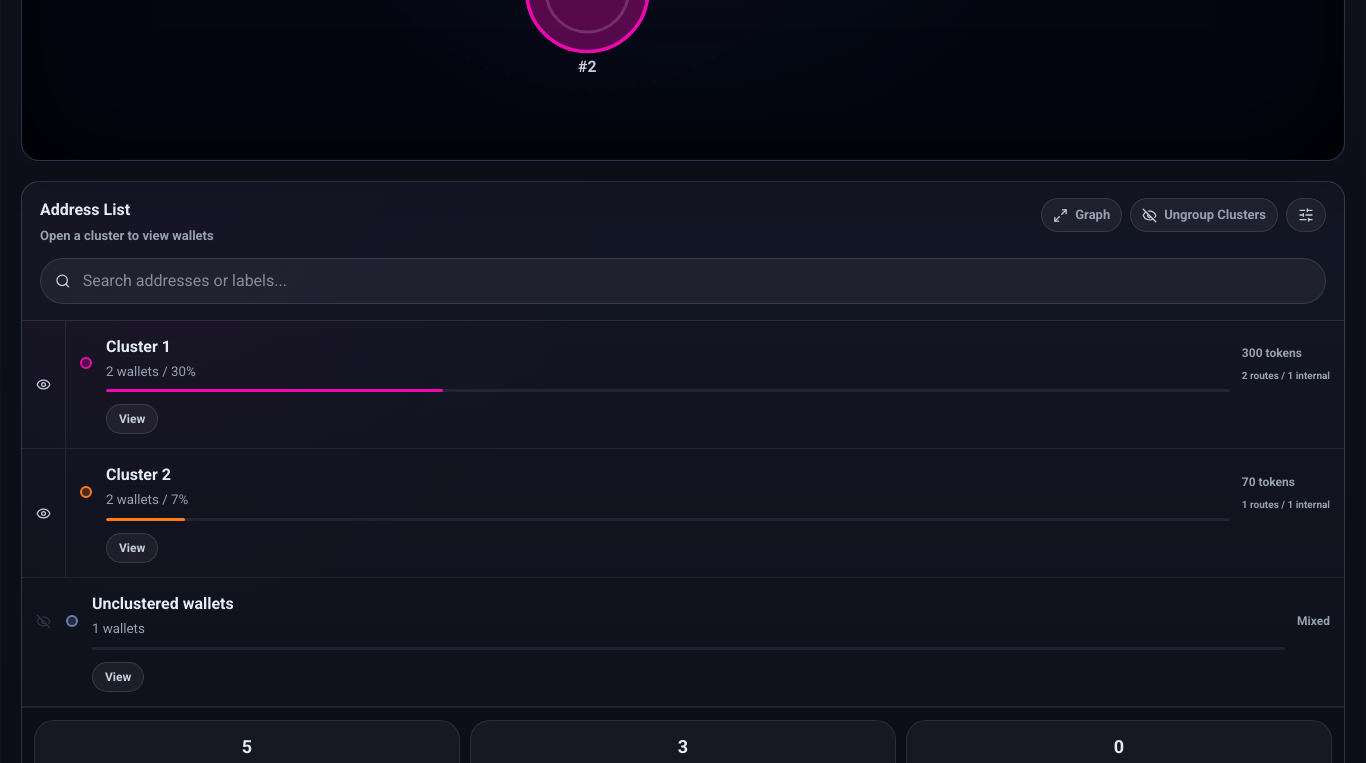
it: AtlasPanel graph interactions › selects wallets from the address list and keeps the owning cluster open
The image size is (1366, 763).
(page scrolled)
Click the button "Cluster 1" at [705, 384], box left=66, top=320, right=1344, bottom=448
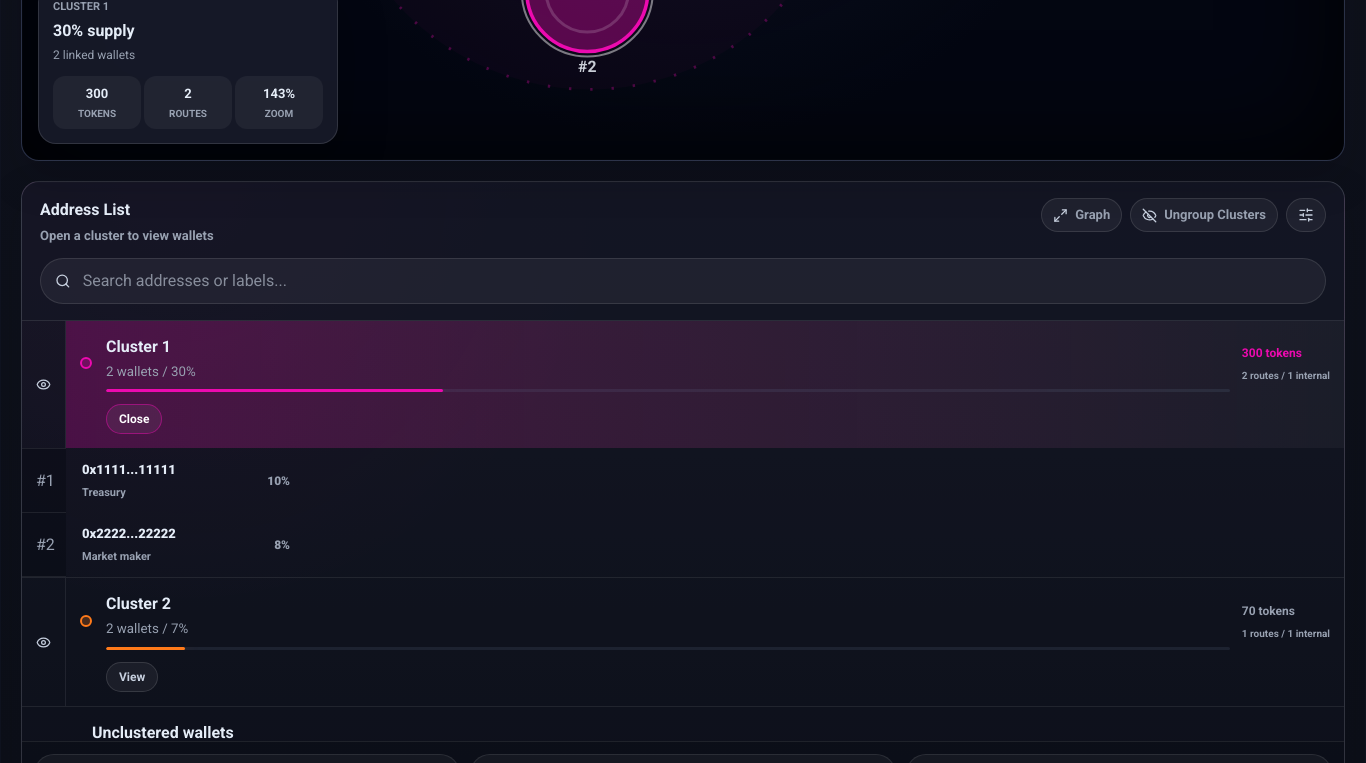
Now the button "#1 0x1111...11111 Treasury 10%" is shown
Now the text "0x1111...11111" is shown, box left=82, top=462, right=176, bottom=478
Now the text "10%" is shown, box left=267, top=474, right=290, bottom=488
Click the button "#1 0x1111...11111 Treasury 10%" at [44, 482], box left=22, top=450, right=66, bottom=514
(page scrolled)
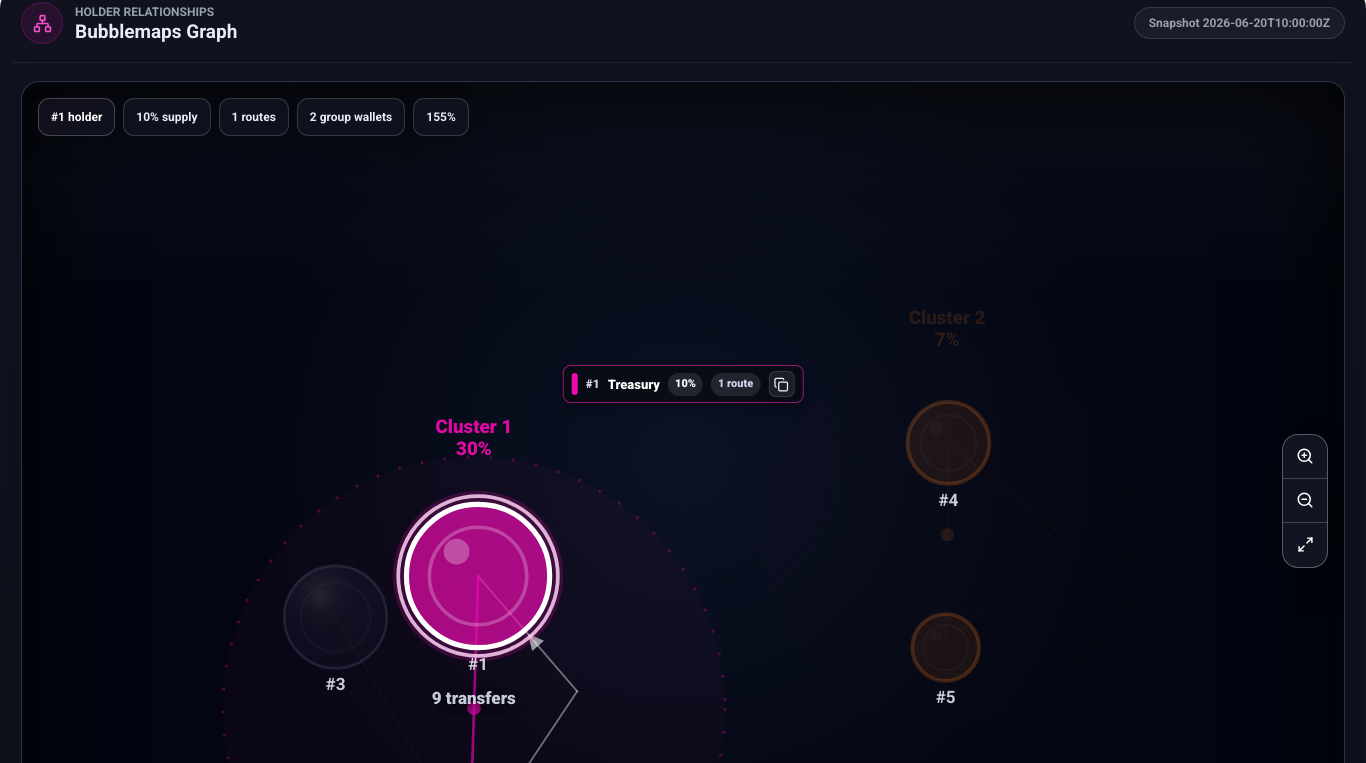
Now the message "#1 Treasury 10% 1 route" is shown, box left=563, top=365, right=803, bottom=403
Now the text "#1" is shown, box left=586, top=375, right=600, bottom=393
Now the text "1 route" is shown, box left=711, top=373, right=760, bottom=396
